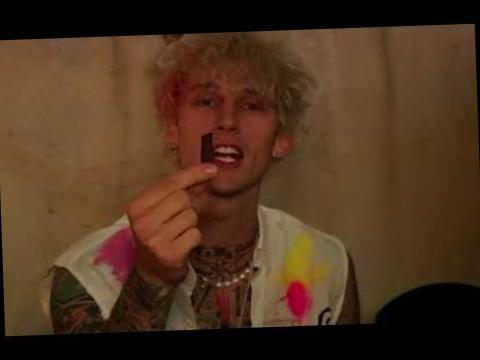Drunk: (180, 68, 278, 196)
